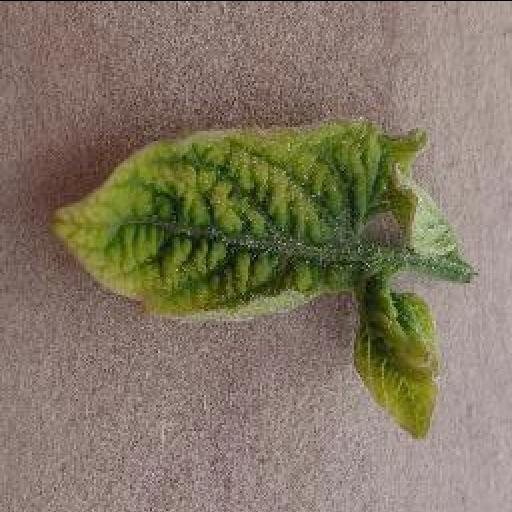disease_tomato: (49, 114, 455, 440)
